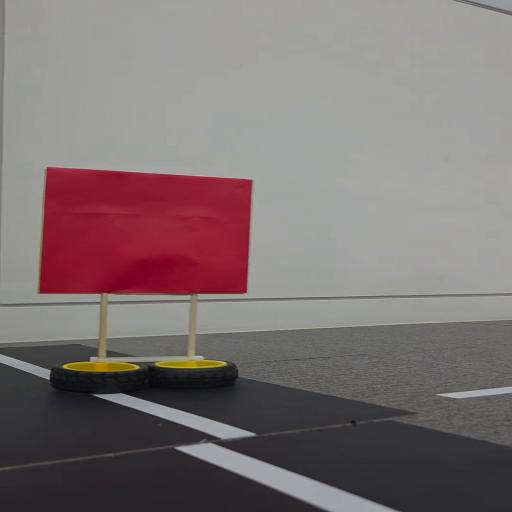Sign_A: (24, 162, 280, 389)
